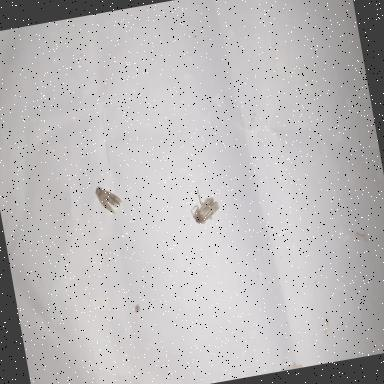pbw: (187, 186, 222, 225), (95, 183, 124, 216)
